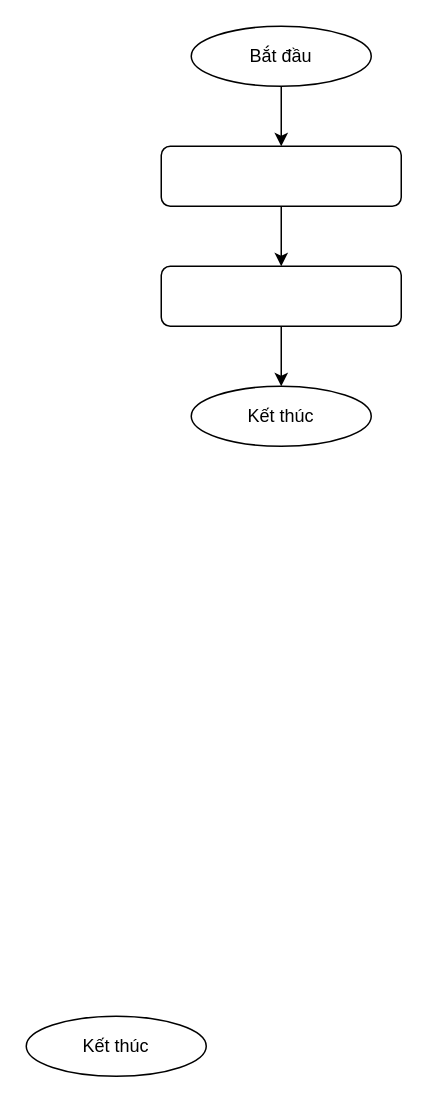
Some shapes in this 428 by 1103 pixel diagram are drawn without their labels. Each missing label, with the centre of its shape:
1. Xử lý lấy thông tin của máy client: point (280, 175)
2. Xử lý gửi thông tin đến Tool Manager: point (280, 295)
